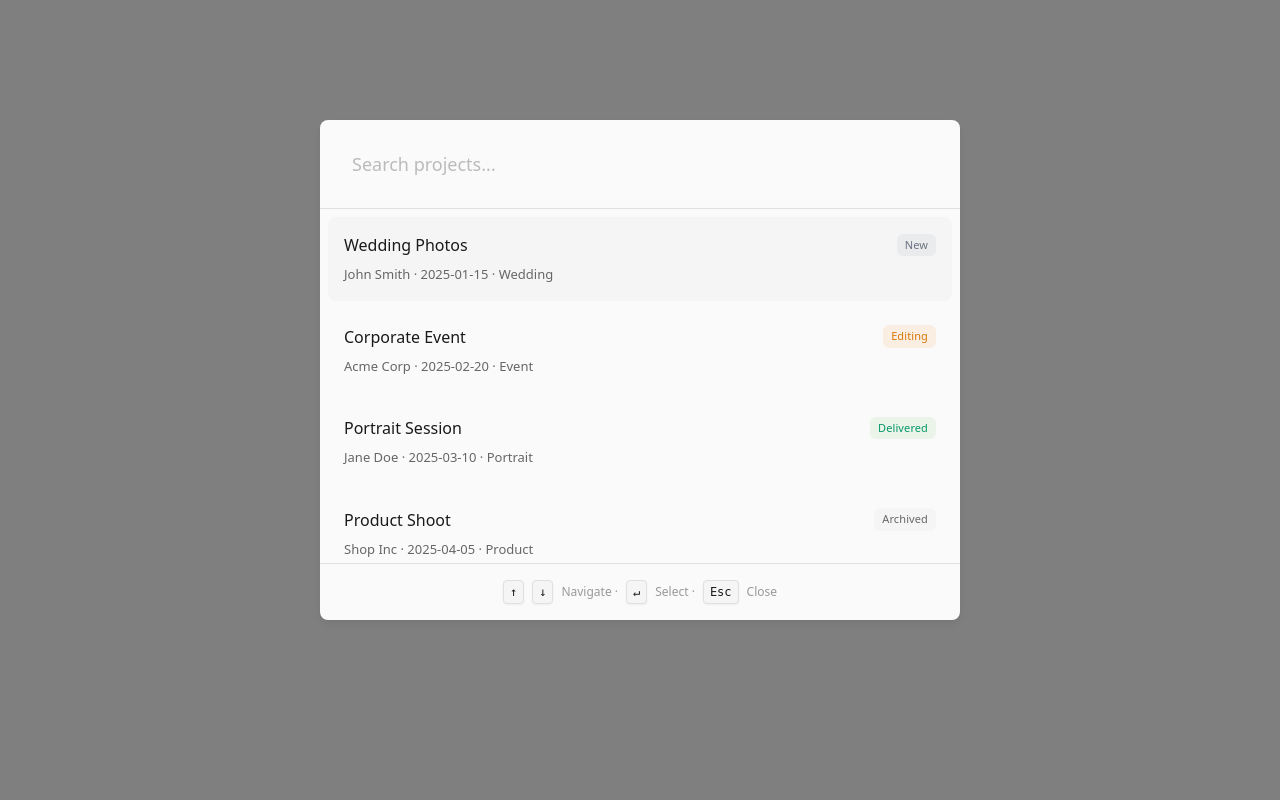
Scenario: commandPalette › filters projects by client name
expect the text "Wedding Photos" is shown: met, box [344, 233, 468, 257]
In the field with placeholder "Search projects...": [640, 164] box [336, 136, 944, 192], type "acme"
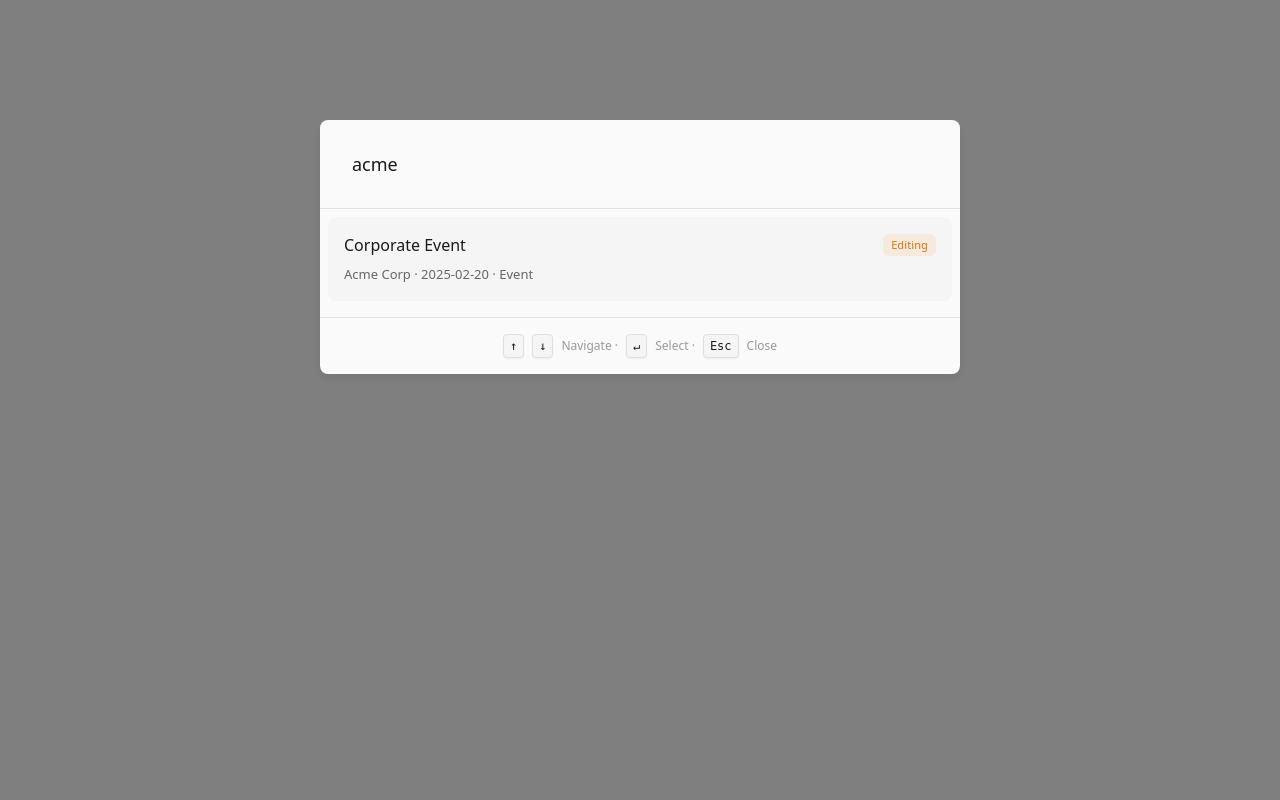
expect the text "Corporate Event" is shown: met, box [344, 233, 466, 257]
expect the button "Wedding Photos" is gone: met
